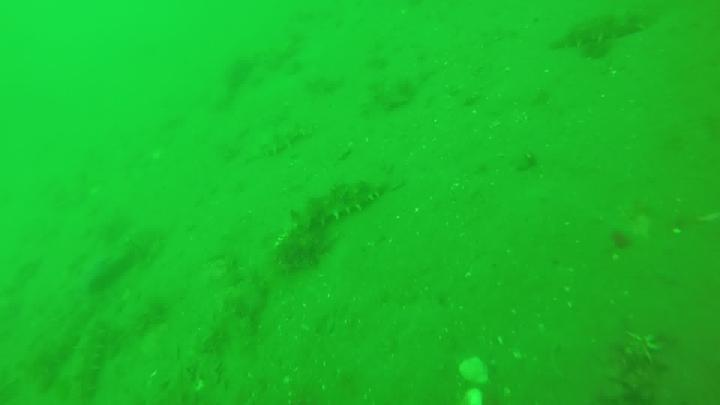holothurian: (61, 225, 168, 297), (270, 178, 390, 232), (539, 12, 656, 48), (67, 317, 111, 405), (250, 120, 341, 160)
scallop: (460, 360, 489, 381), (464, 390, 484, 405)
